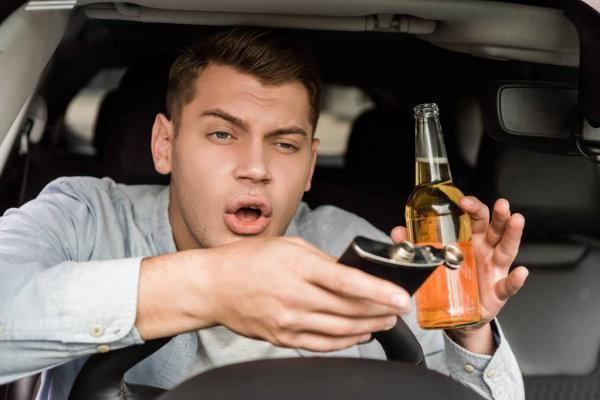Drunk: (187, 70, 306, 240)
